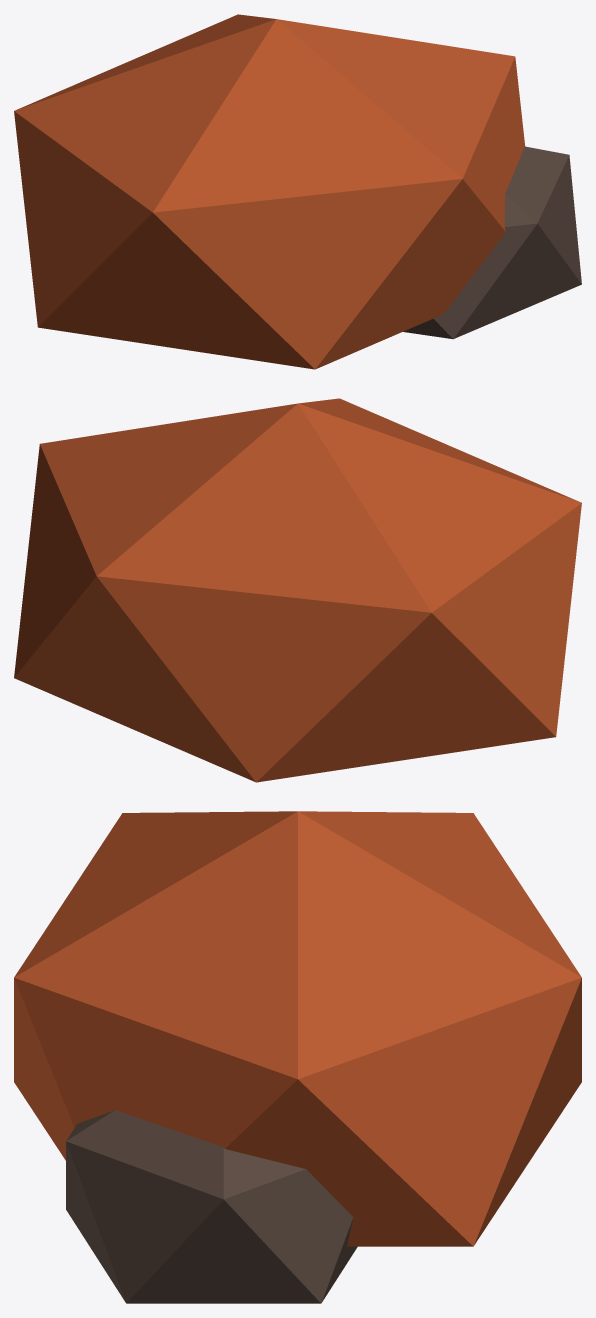
Rendered from rock_small.glb.
3 views of the same model, one above another, from view 1: azimuth 30°, elevation 25°; view 2: azimuth 150°, elevation 25°; view 3: azimuth 270°, elevation 25° (orthographic). The views are drawn at different scales.
Visible parts, largest first — view 1: rock_small; view 2: rock_small; view 3: rock_small.
Boxes of the visible parts, x1,y1,x2,y2 form: rock_small: (14,14,581,369); rock_small: (14,398,581,782); rock_small: (14,811,581,1303).
Bounding box in the file's own units: 0.1976 × 0.12 × 0.1531.
